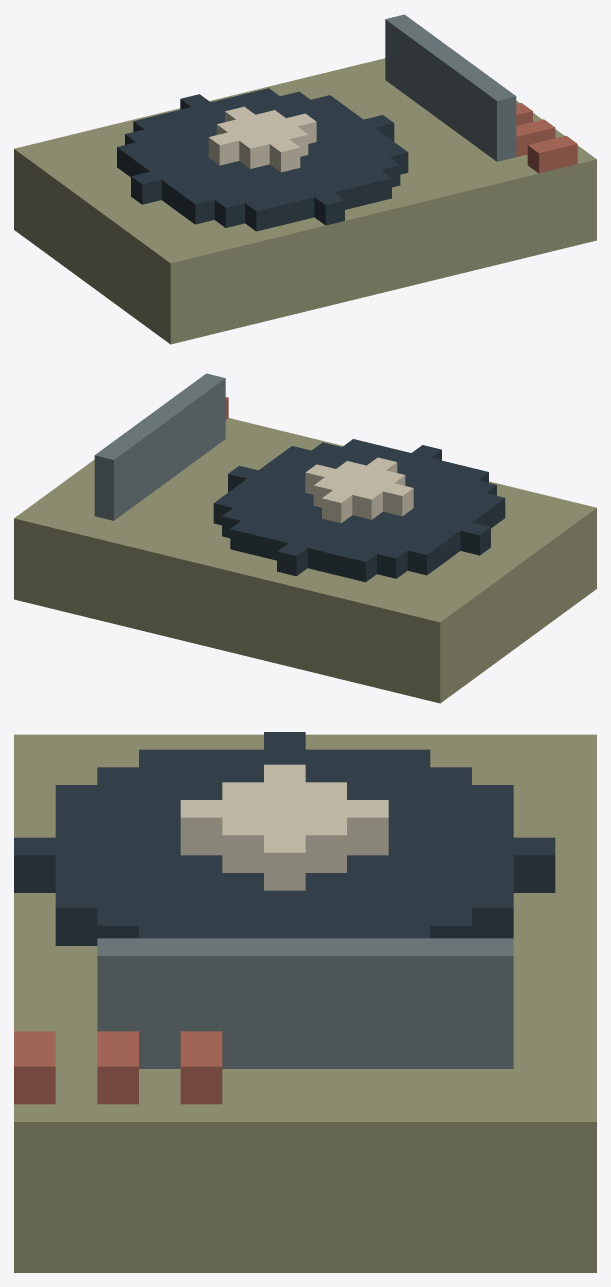
Rendered from chemistry-14.glb.
3 views of the same model, one above another, from view 1: azimuth 30°, elevation 25°; view 2: azimuth 150°, elevation 25°; view 3: azimuth 270°, elevation 25° (orthographic). The views are drawn at different scales.
Visible parts, largest first — view 1: Stir plate; view 2: Stir plate; view 3: Stir plate.
Boxes of the visible parts, bbox=[...] form: Stir plate: bbox=[14, 14, 596, 344]; Stir plate: bbox=[14, 373, 596, 703]; Stir plate: bbox=[14, 732, 596, 1272].
Bounding box in the file's own units: 1.76 × 0.56 × 1.12.
